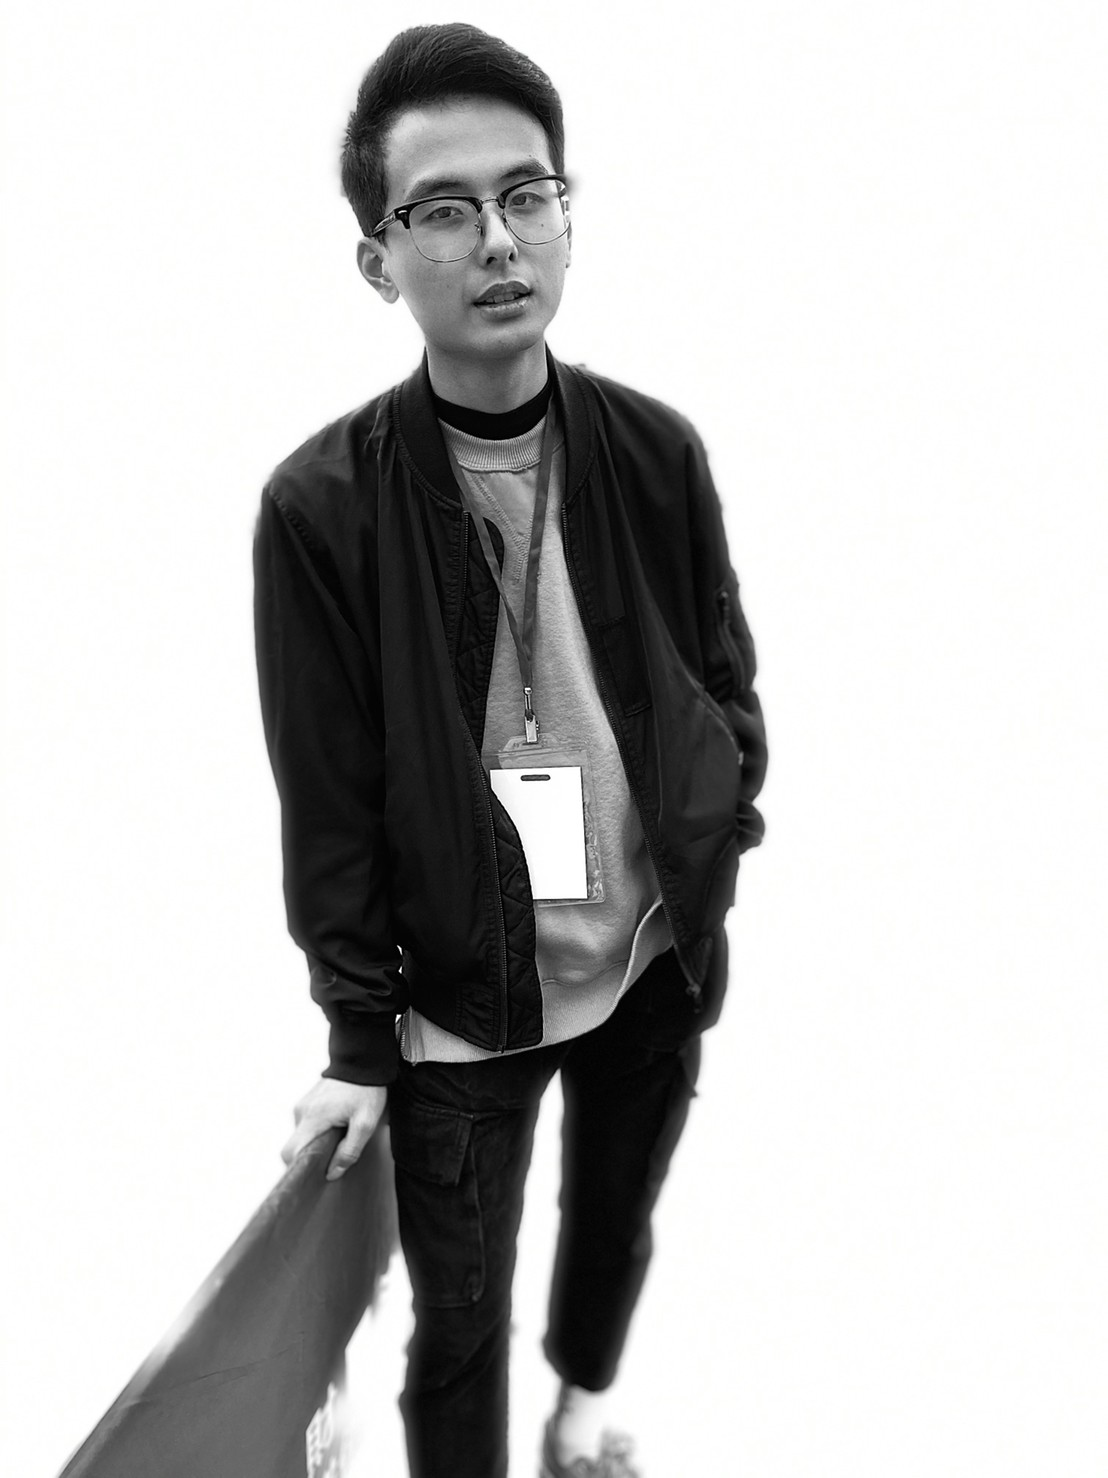people: (269, 12, 712, 1478)
